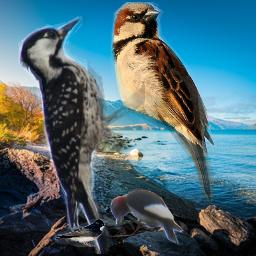Swallow: (110, 2, 214, 201), (55, 219, 105, 247)
Woodpecker: (17, 14, 145, 254), (108, 188, 185, 245)
